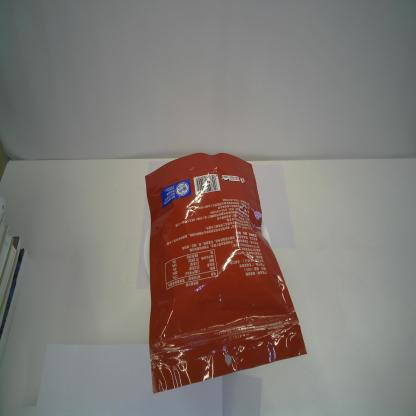Dried Food: (145, 151, 308, 393)
